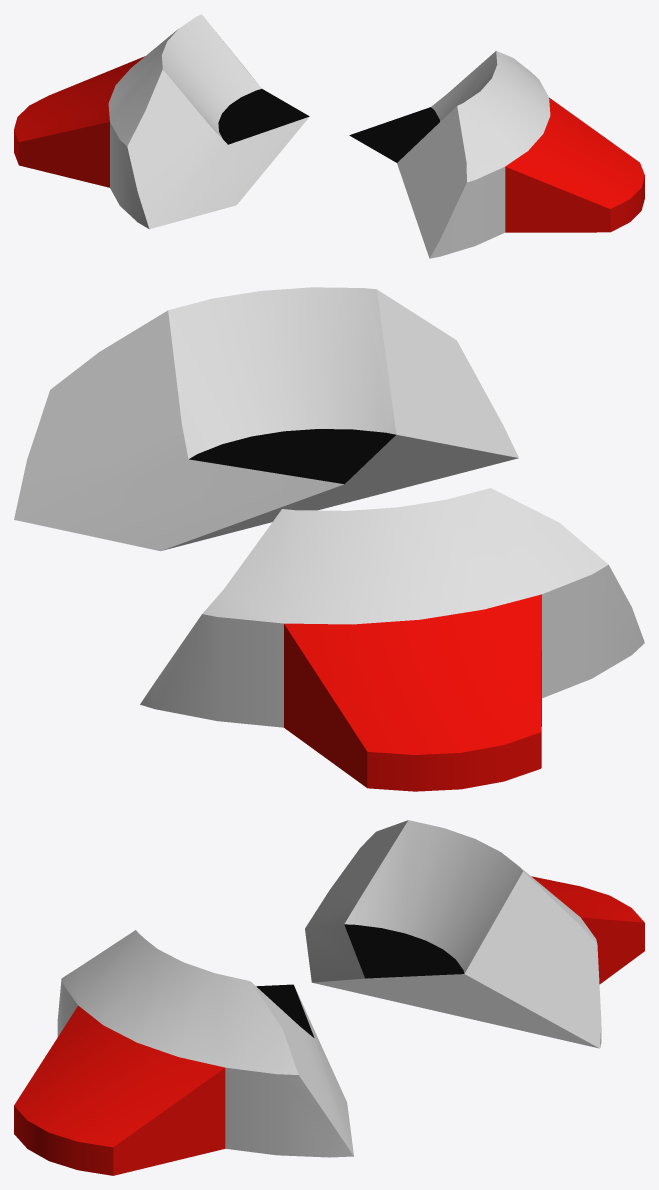
The model's file is silo.fbx.
3 renders of one model, top to bottom at view 1: azimuth 30°, elevation 25°; view 2: azimuth 150°, elevation 25°; view 3: azimuth 270°, elevation 25°, orthographic. The views are drawn at different scales.
Parts seen in each view (by area): view 1: silo.001; view 2: silo.001; view 3: silo.001.
Part boxes in pixels (box(x1,y1,x2,y2)): silo.001: box(14, 14, 644, 258); silo.001: box(14, 287, 644, 791); silo.001: box(14, 820, 644, 1175).
Bounding box in the file's own units: 232 × 57.6 × 232.
